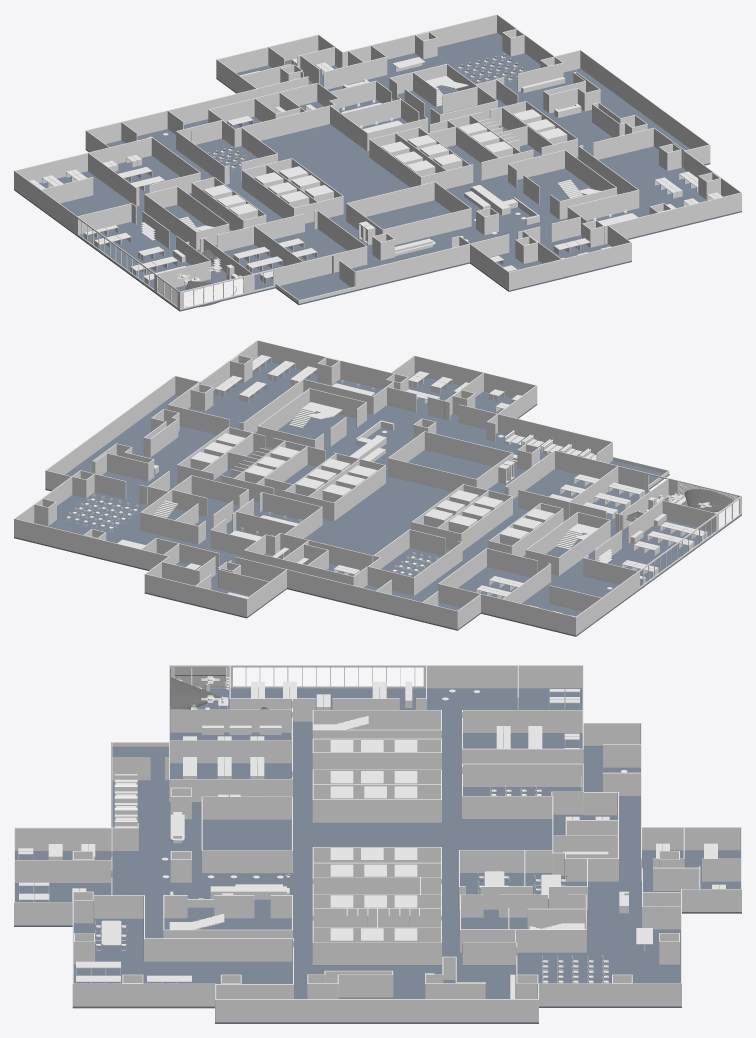
The model's file is f6.raw.glb.
The picture shows the model from 3 angles, top to bottom: view 1: azimuth 30°, elevation 25°; view 2: azimuth 150°, elevation 25°; view 3: azimuth 270°, elevation 25°; orthographic projection. The views are drawn at different scales.
Parts seen in each view (by area): view 1: wall, floor, others.022; view 2: wall, floor, others.022, visualcone1, others.251, others.249; view 3: wall, floor, others.022, visualcone1.
Boxes of the visible parts, x1=… form: wall: x1=14, y1=14, x2=741, y2=310; floor: x1=14, y1=33, x2=741, y2=311; others.022: x1=141, y1=57, x2=581, y2=289; wall: x1=14, y1=340, x2=741, y2=635; floor: x1=14, y1=362, x2=741, y2=636; others.022: x1=117, y1=420, x2=640, y2=563; visualcone1: x1=684, y1=489, x2=733, y2=512; others.251: x1=289, y1=402, x2=342, y2=428; others.249: x1=556, y1=523, x2=597, y2=549; wall: x1=14, y1=665, x2=741, y2=1022; floor: x1=14, y1=688, x2=741, y2=1023; others.022: x1=170, y1=677, x2=652, y2=998; visualcone1: x1=171, y1=677, x2=221, y2=709.
Bounding box in the file's own units: 72.61 × 2.65 × 66.78.
